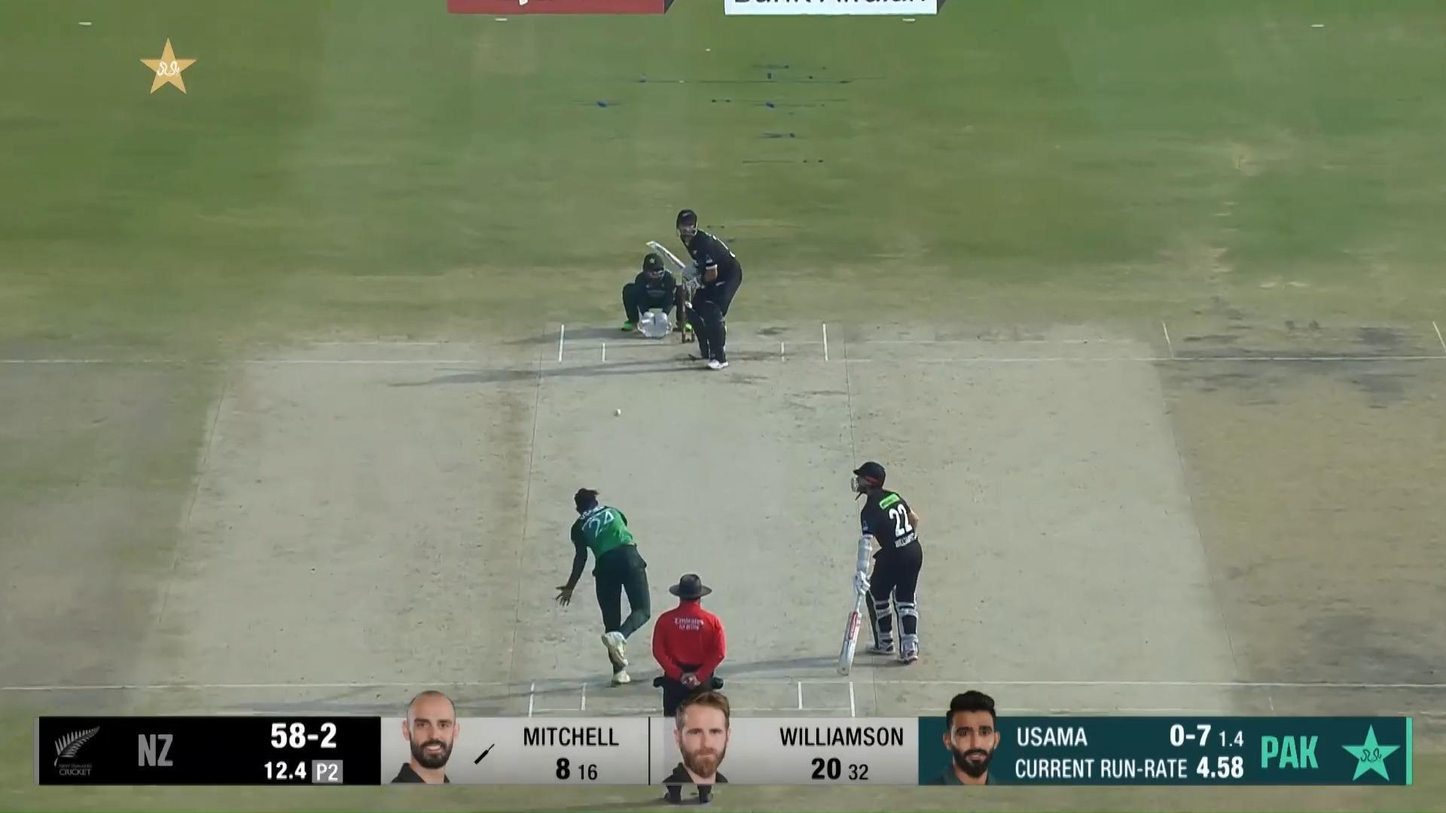BM 1: (645, 210, 744, 370)
BO: (554, 486, 653, 684)
